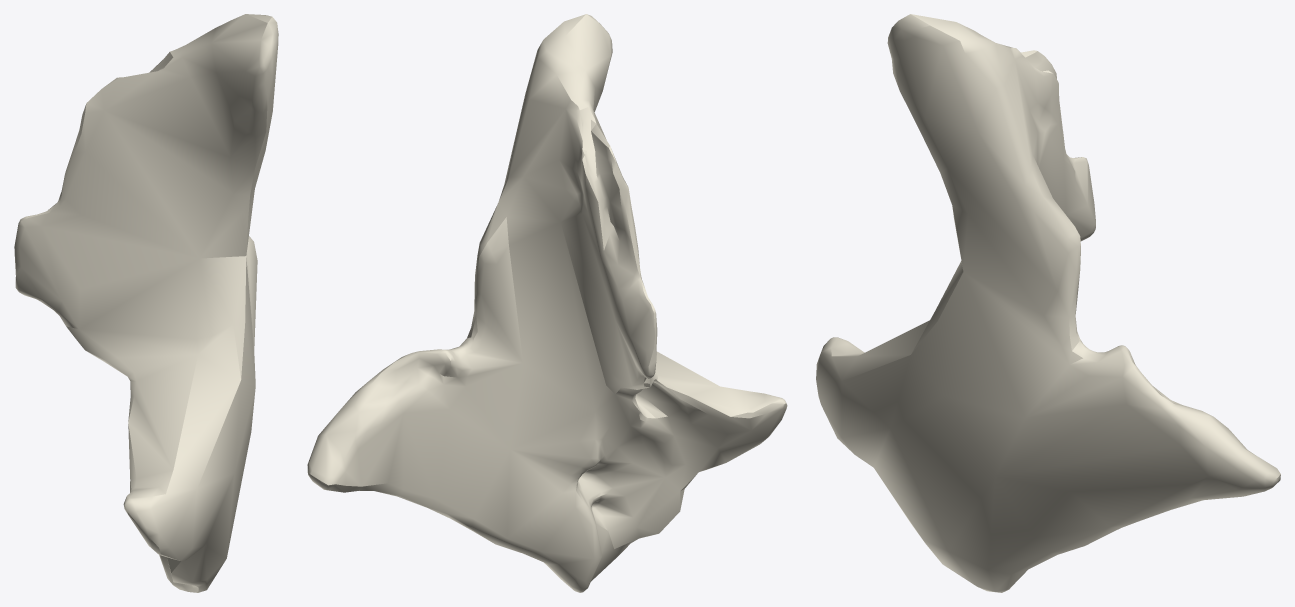
Rendered from fma52893_fj3287.glb.
The picture shows the model from 3 angles, left to right: view 1: azimuth 30°, elevation 25°; view 2: azimuth 150°, elevation 25°; view 3: azimuth 270°, elevation 25°; orthographic projection. The views are drawn at different scales.
Visible parts, largest first — view 1: FMA52893_FJ3287; view 2: FMA52893_FJ3287; view 3: FMA52893_FJ3287.
Boxes of the visible parts, <box> form: FMA52893_FJ3287: <box>14,14,278,592</box>; FMA52893_FJ3287: <box>307,14,787,592</box>; FMA52893_FJ3287: <box>816,14,1280,592</box>.
Bounding box in the file's own units: 0.0314 × 0.0561 × 0.0397.
